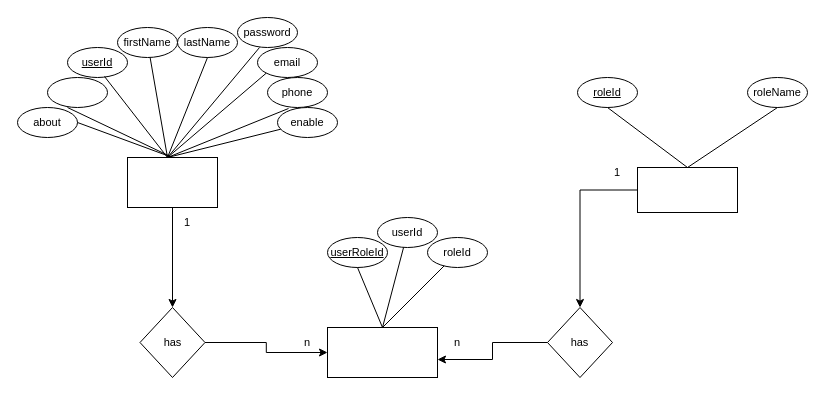
This 825x395 diagram has some shape labels left out. The centre of each missing label's shape, as x and y in pixels:
Role: point 687,189
User: point 172,182
USER_ROLE: point 382,352
userName: point 77,92
